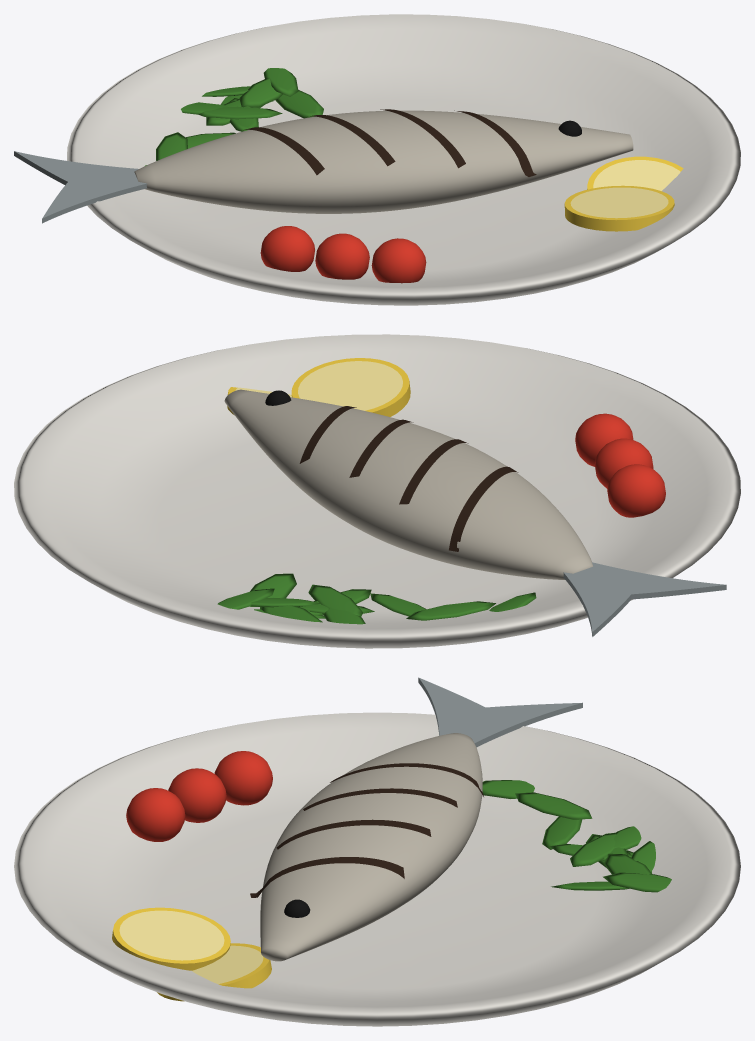
File: sea-bass.glb
The picture shows the model from 3 angles, top to bottom: view 1: azimuth 30°, elevation 25°; view 2: azimuth 150°, elevation 25°; view 3: azimuth 270°, elevation 25°; orthographic projection. The views are drawn at different scales.
Parts seen in each view (by area): view 1: Plate, Body, Cherry tomatoes, Rocket, Lemon pulp 1, Tail, Grill marks, Lemon slice 1; view 2: Plate, Body, Rocket, Cherry tomatoes, Tail, Lemon pulp 1, Grill marks, Lemon slice 1; view 3: Plate, Body, Rocket, Cherry tomatoes, Lemon pulp 1, Tail, Grill marks, Lemon slice 1.
Boxes of the visible parts, x1=… form: Plate: x1=67, y1=14, x2=740, y2=305; Body: x1=134, y1=110, x2=633, y2=213; Cherry tomatoes: x1=260, y1=226, x2=426, y2=283; Rocket: x1=144, y1=68, x2=323, y2=166; Lemon pulp 1: x1=570, y1=160, x2=680, y2=218; Tail: x1=14, y1=151, x2=147, y2=223; Grill marks: x1=243, y1=109, x2=536, y2=176; Lemon slice 1: x1=564, y1=156, x2=683, y2=231; Plate: x1=14, y1=334, x2=740, y2=648; Body: x1=224, y1=389, x2=592, y2=579; Rocket: x1=217, y1=573, x2=536, y2=624; Cherry tomatoes: x1=575, y1=413, x2=665, y2=517; Tail: x1=563, y1=562, x2=726, y2=636; Lemon pulp 1: x1=235, y1=361, x2=402, y2=410; Grill marks: x1=299, y1=406, x2=518, y2=551; Lemon slice 1: x1=227, y1=358, x2=410, y2=416; Plate: x1=14, y1=712, x2=740, y2=1026; Body: x1=260, y1=733, x2=482, y2=961; Rocket: x1=482, y1=780, x2=671, y2=892; Cherry tomatoes: x1=126, y1=751, x2=272, y2=841; Lemon pulp 1: x1=119, y1=910, x2=263, y2=983; Tail: x1=418, y1=677, x2=582, y2=747; Grill marks: x1=250, y1=763, x2=483, y2=897; Lemon slice 1: x1=112, y1=907, x2=271, y2=1001.
Size of the model in its own units: 0.3065 by 0.0397 by 0.282.
